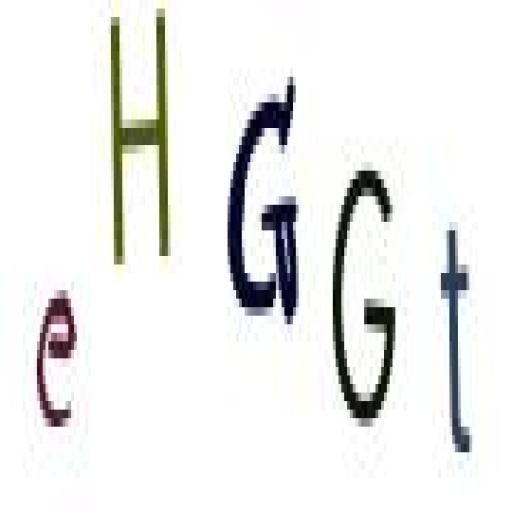G: (323, 138, 402, 450), (227, 66, 308, 348)
H: (102, 4, 176, 272)
e: (29, 273, 85, 450)
t: (436, 209, 479, 473)
